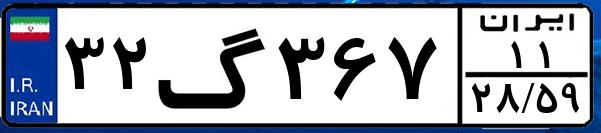1: (537, 27, 568, 80), (508, 27, 537, 80)
2: (110, 28, 156, 98), (470, 70, 495, 125)
3: (270, 28, 330, 110), (57, 26, 110, 100)
5: (535, 70, 560, 125)
6: (330, 28, 385, 110)
7: (385, 28, 445, 110)
8: (495, 70, 520, 125)
9: (560, 70, 590, 125)
گ: (156, 12, 270, 120)
